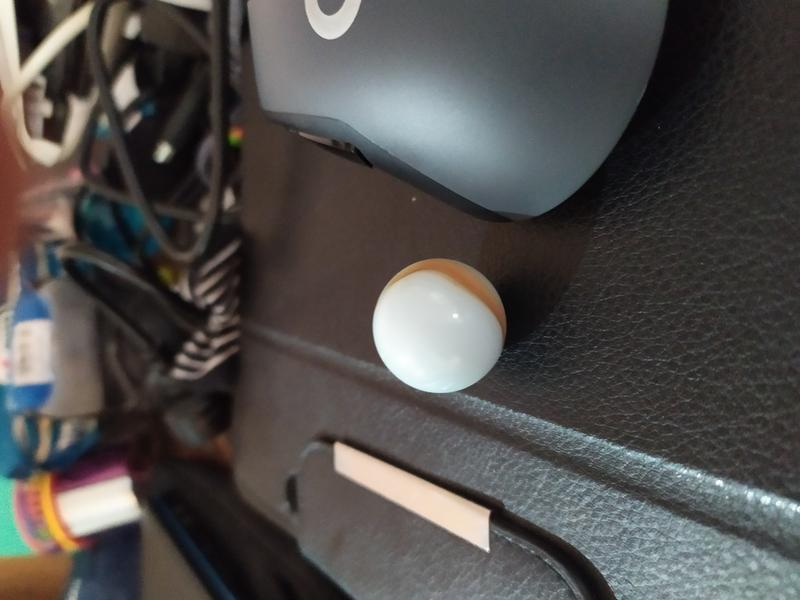Warning: (369, 256, 511, 396)
